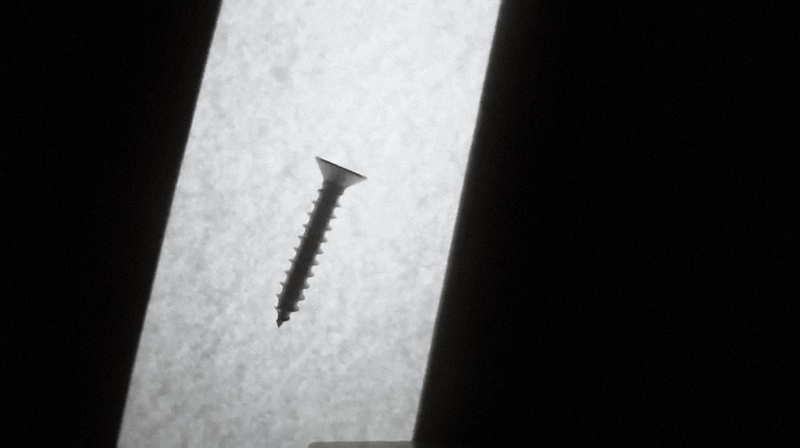S001: (273, 152, 369, 331)
